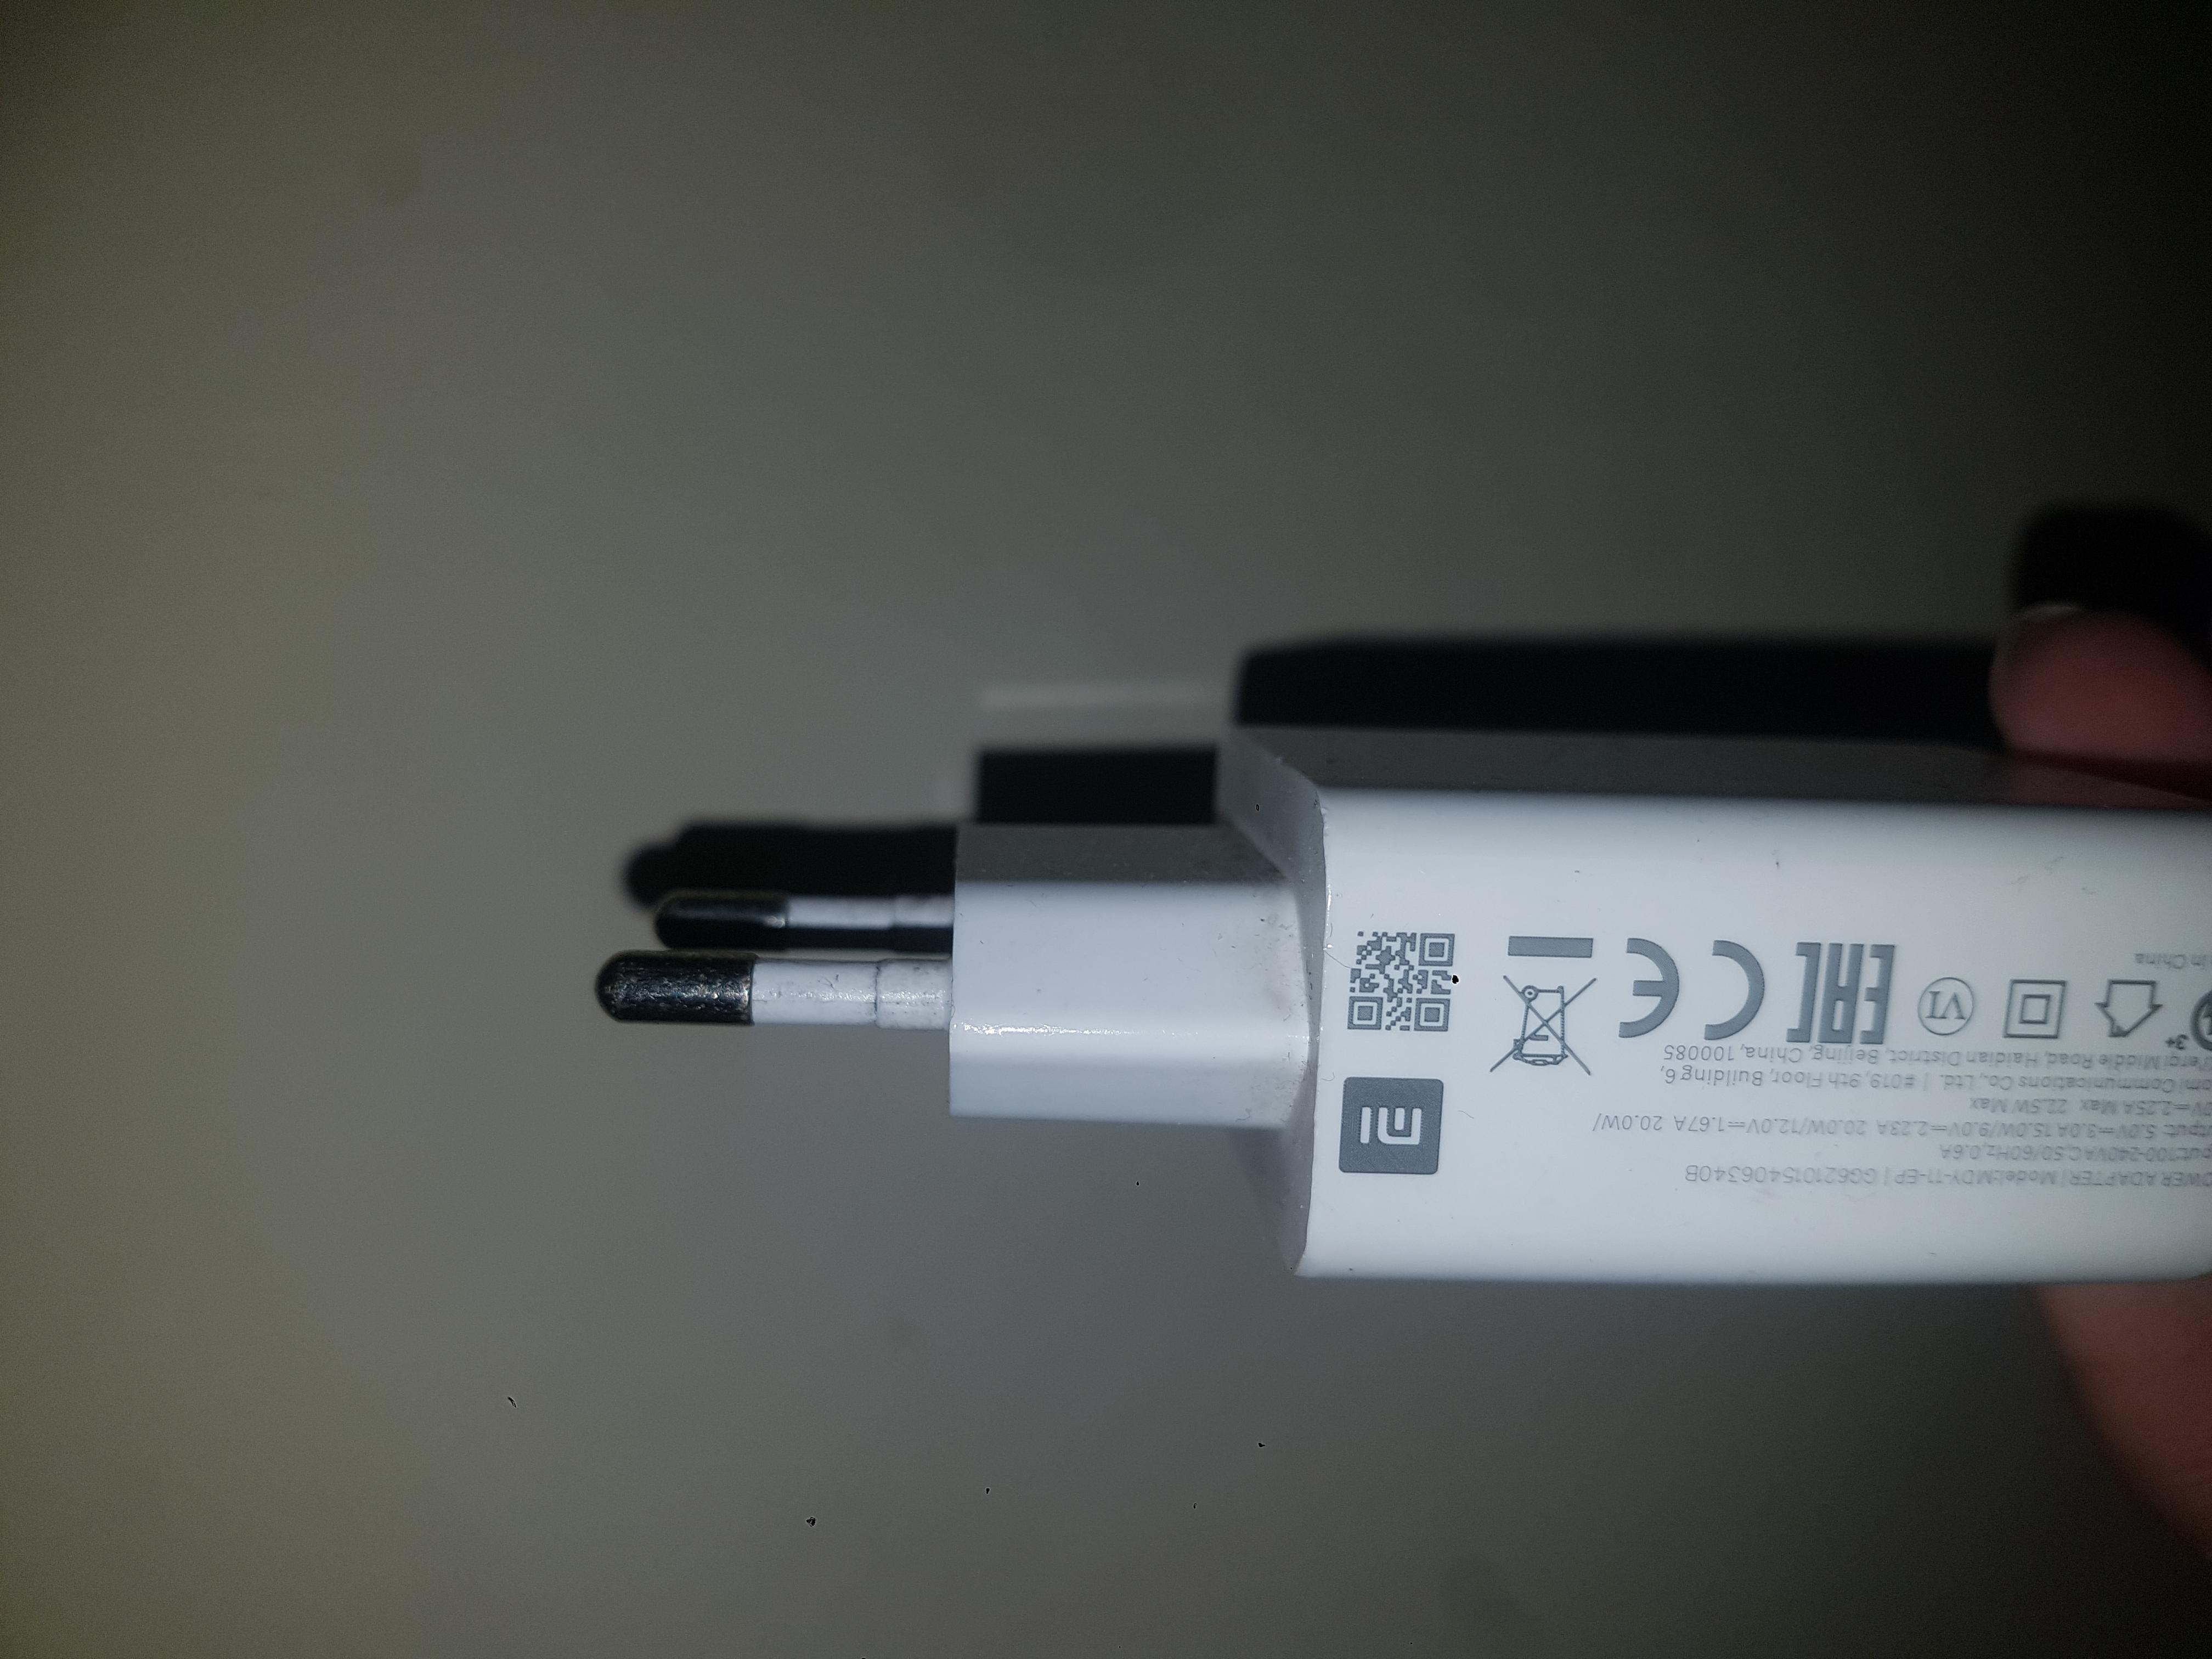electronic: (420, 413, 1317, 1659)
